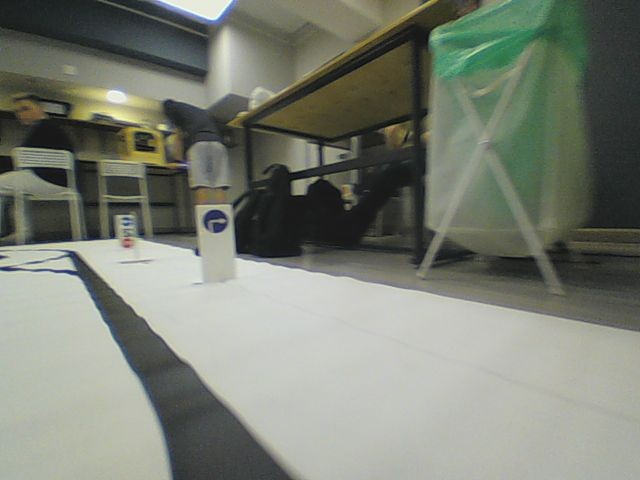Right: (202, 208, 230, 237)
